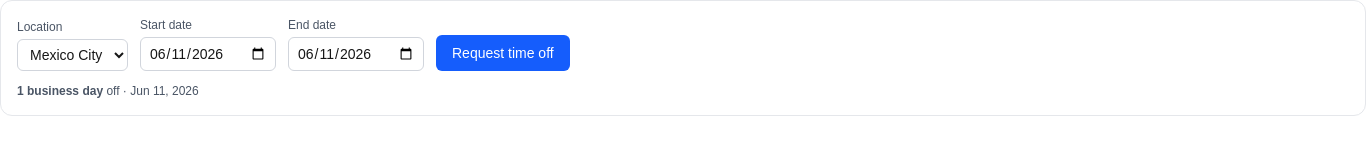
Test case: RequestForm › should narrate the derived hold before submitting
The image size is (1366, 160).
Type "2026-06-15" into the date field labelled "End date". click: [356, 54]
box: [288,37,424,71]
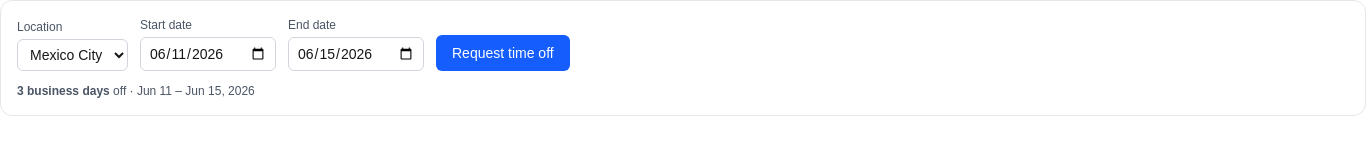
Result: the text "3 business days" is shown at [17,84,110,98]
